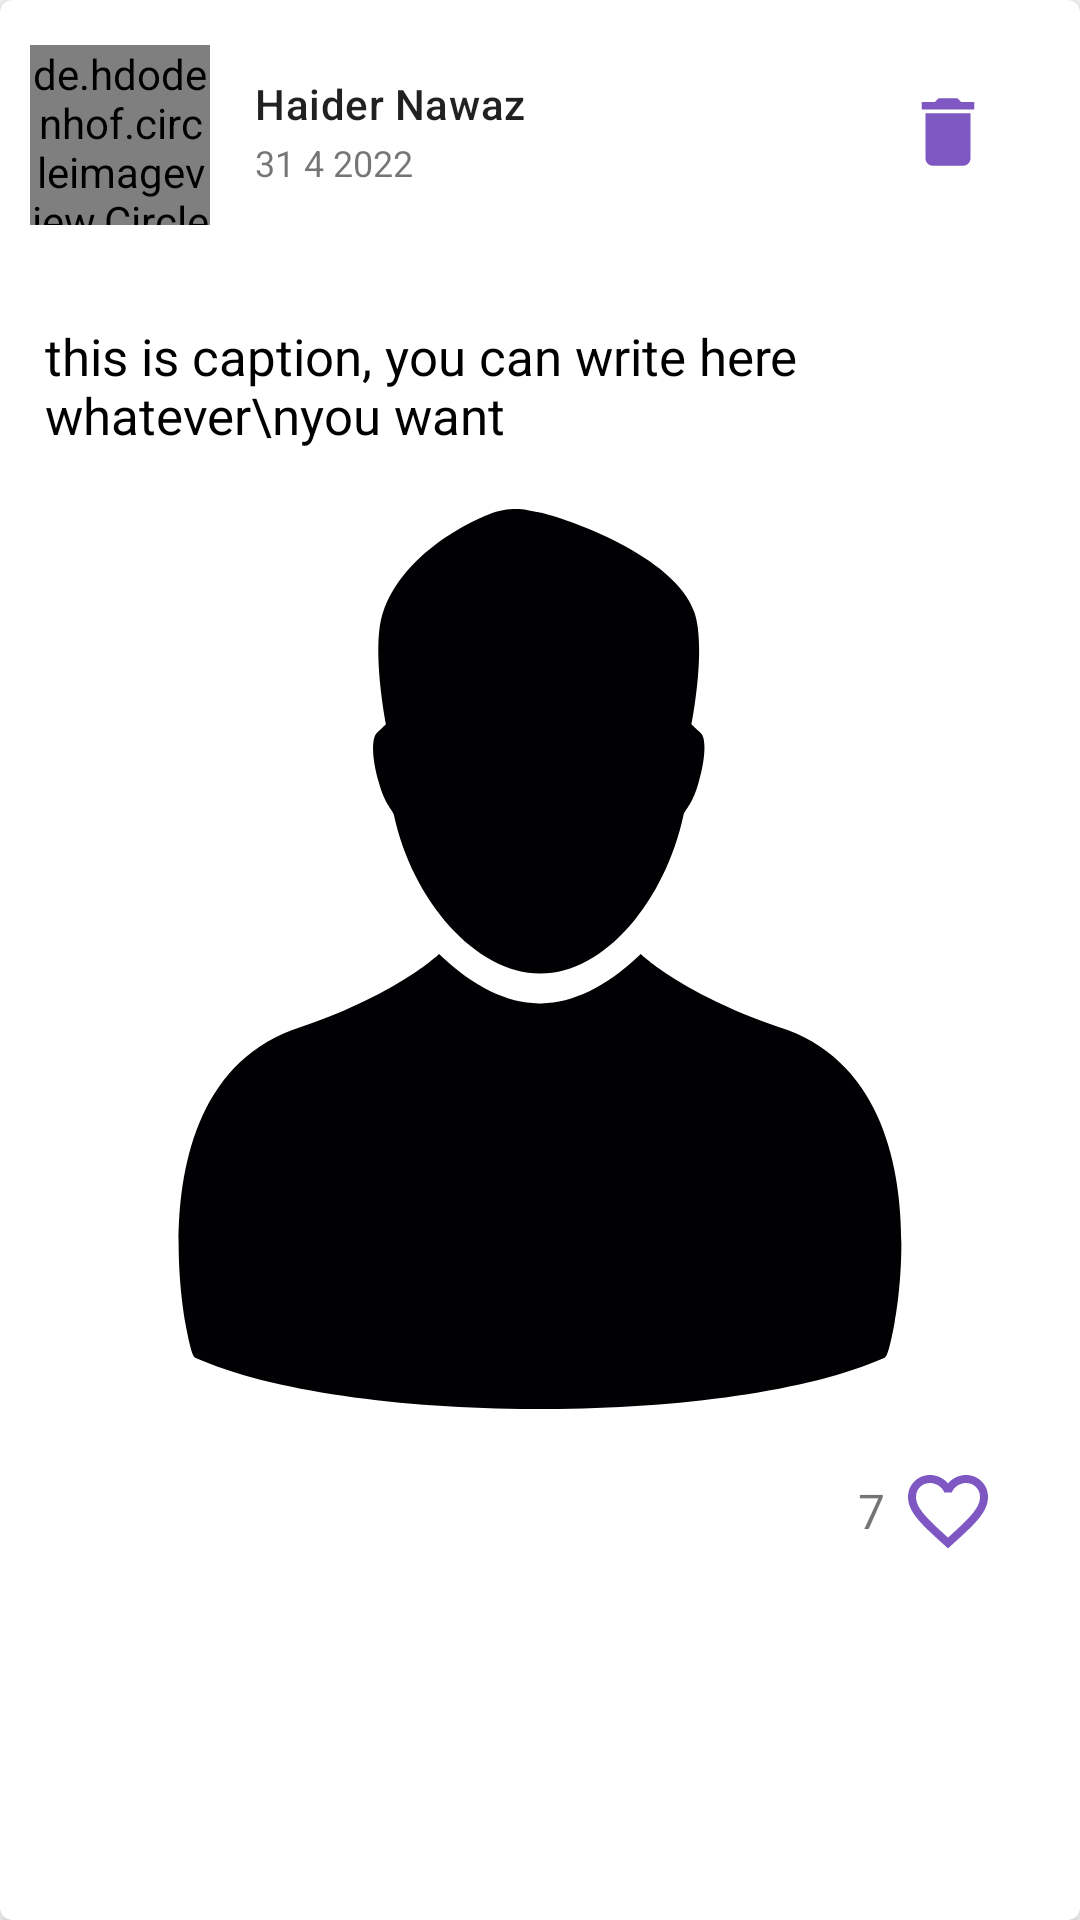

Where icons sit on this 1080w x 1920h app screen, as box(x1, y1, x2, y2):
delete: box(921, 98, 975, 166)
